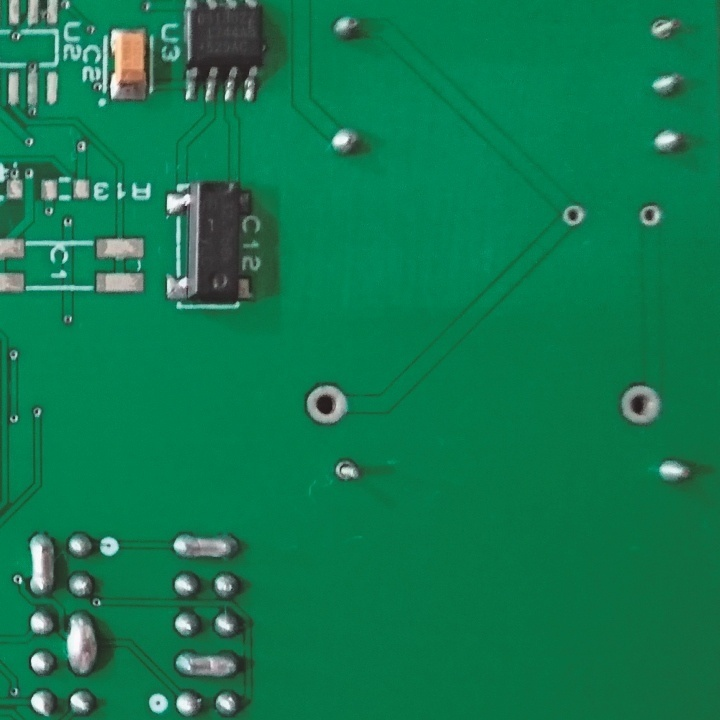F: (616, 379, 661, 429), (301, 384, 350, 426), (647, 15, 681, 43), (333, 455, 361, 486), (636, 200, 662, 228), (559, 203, 589, 227)
P: (167, 529, 241, 565), (62, 608, 99, 678), (170, 649, 245, 680), (27, 528, 56, 600)
